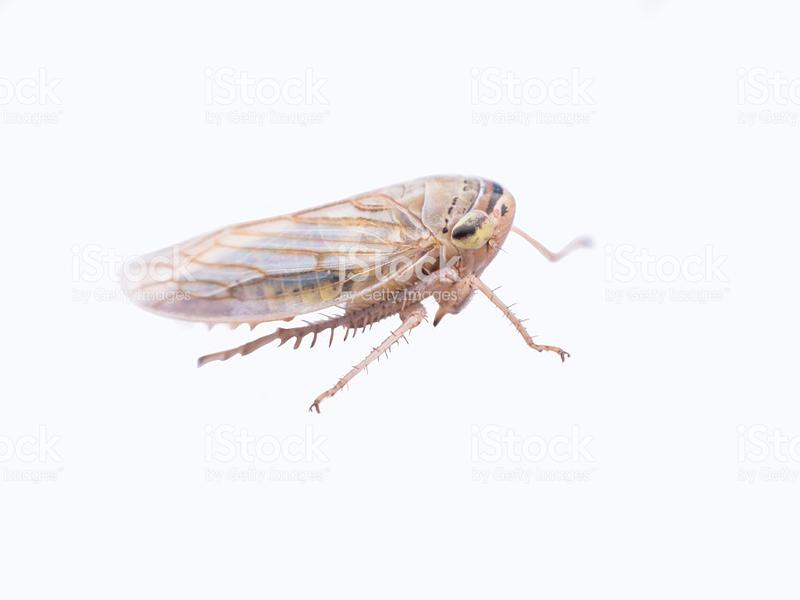Brown_plant_leafhopper: (68, 164, 590, 433)
